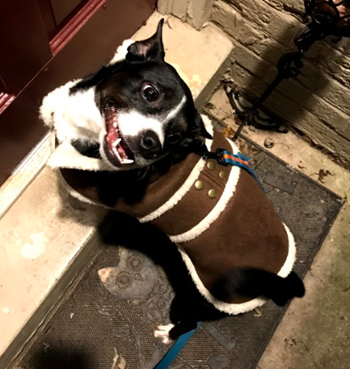Harley: (34, 16, 308, 343)
